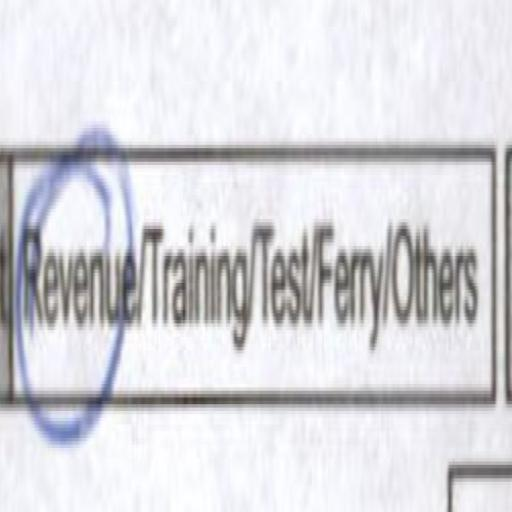check: (16, 125, 142, 478)
